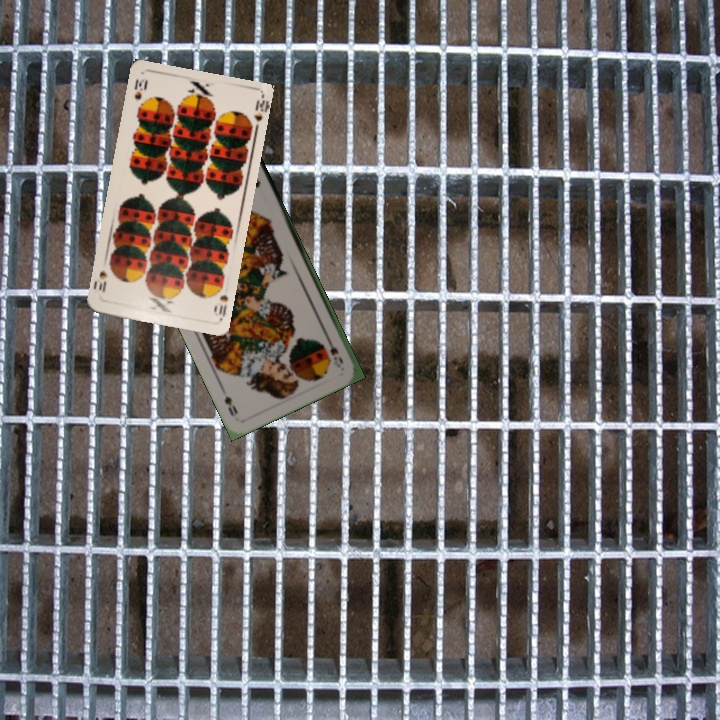S10: (210, 280, 231, 321), (130, 75, 150, 103)
SO: (322, 332, 346, 371)
